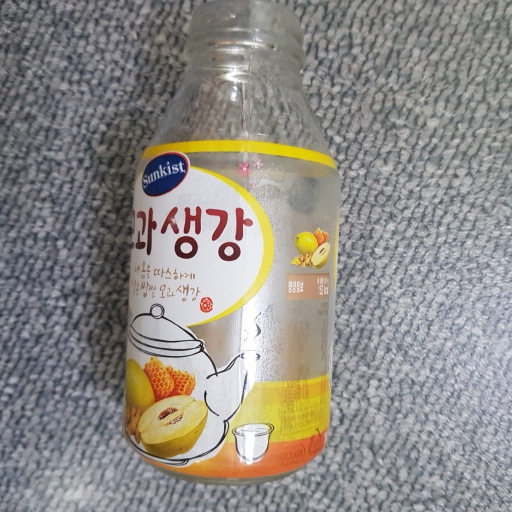Glass_4: (119, 3, 341, 482)
